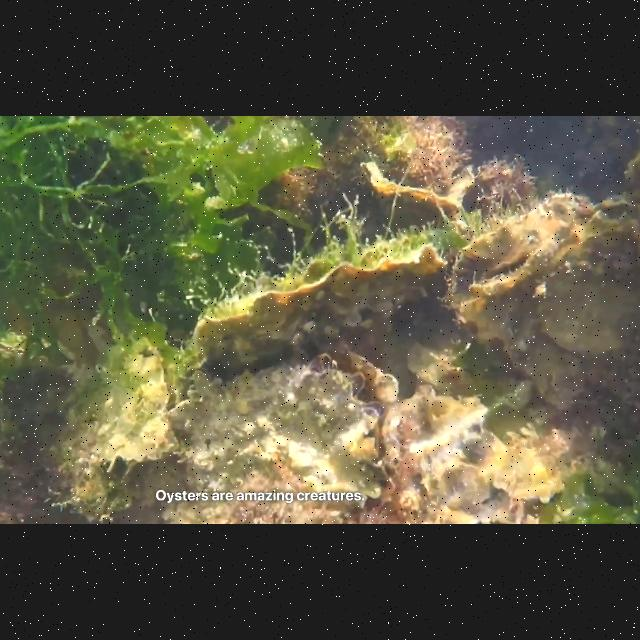Oyster-Closed: (194, 242, 452, 378)
Oyster-Open: (448, 193, 640, 414), (156, 353, 394, 525), (381, 386, 509, 524), (94, 350, 182, 484), (54, 412, 138, 524), (360, 161, 462, 231)
